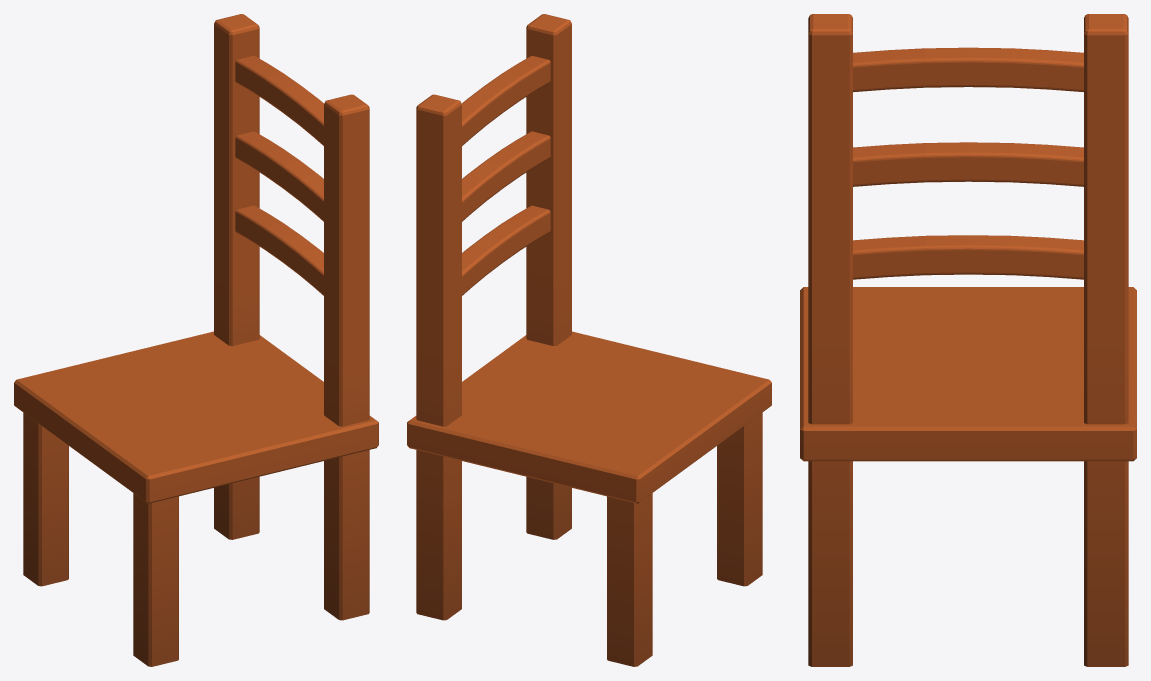
File: Chair.gltf
The picture shows the model from 3 angles, left to right: view 1: azimuth 30°, elevation 25°; view 2: azimuth 150°, elevation 25°; view 3: azimuth 270°, elevation 25°; orthographic projection. The views are drawn at different scales.
Visible parts, largest first — view 1: Chair; view 2: Chair; view 3: Chair.
Boxes of the visible parts, x1,y1,x2,y2 form: Chair: [14, 14, 378, 666]; Chair: [407, 14, 771, 666]; Chair: [800, 14, 1136, 666].
Size of the model in its own units: 0.5378 by 1.12 by 0.5378.
Materials: 1 (1 with a texture image).
